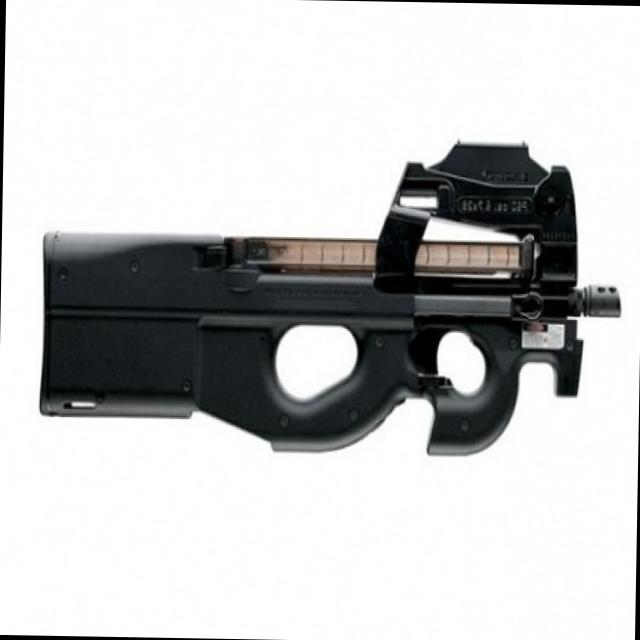Gun: (23, 116, 632, 506)
